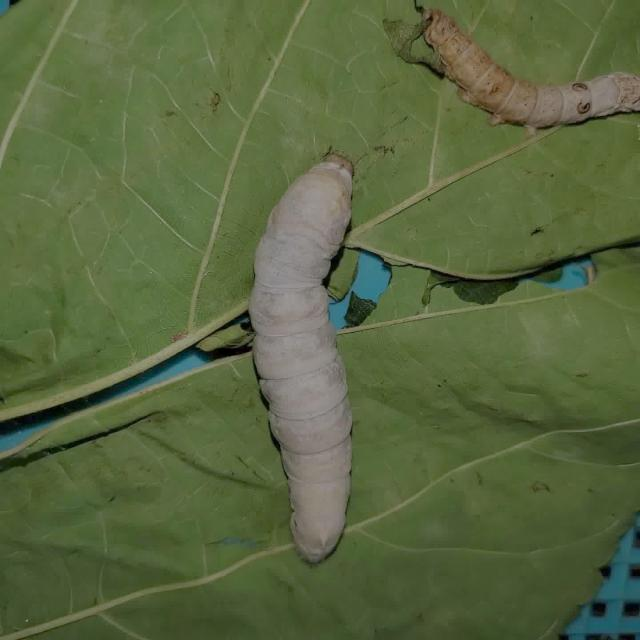Grasserie: (214, 148, 399, 572), (396, 0, 640, 129)
